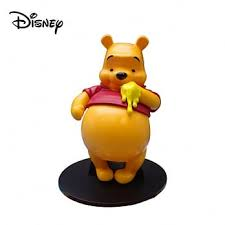Winnie: (85, 33, 161, 110)
